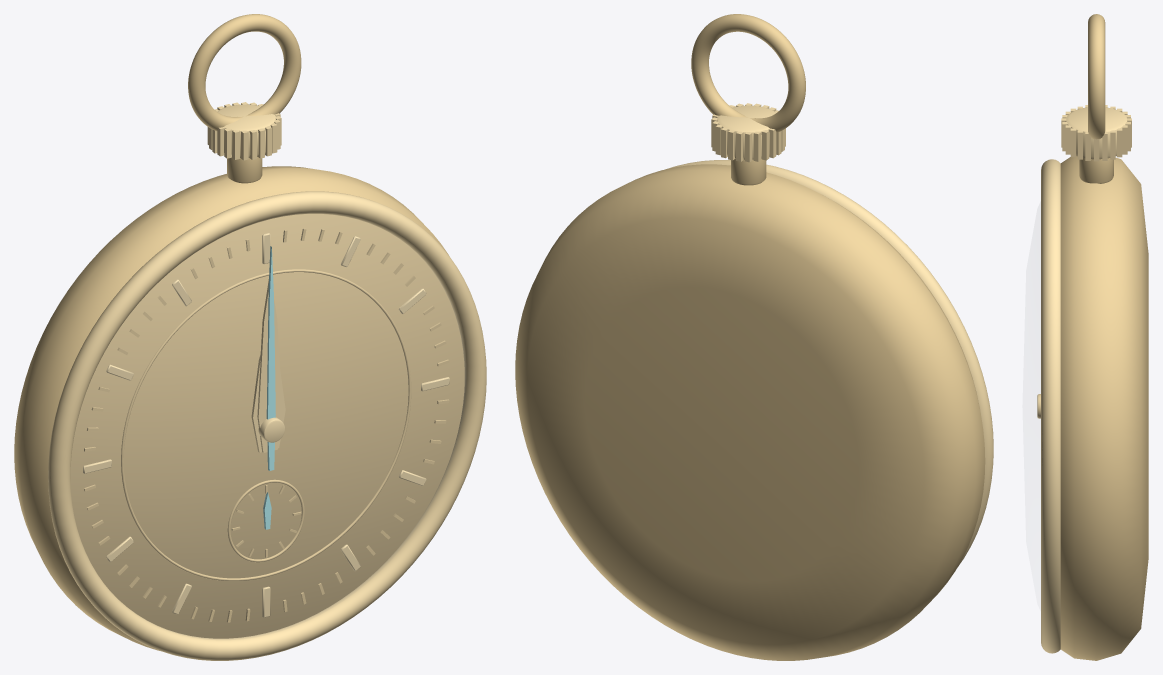
The model's file is PocketWatch.fbx.
3 renders of one model, left to right at view 1: azimuth 30°, elevation 25°; view 2: azimuth 150°, elevation 25°; view 3: azimuth 270°, elevation 25°, orthographic. The views are drawn at different scales.
Visible parts, largest first — view 1: Case, Bezel, Bow, Track, HandMinute, HandSecond, Crown, Stem, SubRing; view 2: Case, Bezel, Bow, Crown, Stem; view 3: Case, Bezel, Bow, Crown, Stem.
Part boxes in pixels (box(x1,y1,x2,y2)): Case: box(14, 166, 464, 650); Bezel: box(48, 191, 486, 660); Bow: box(188, 14, 301, 131); Track: box(121, 269, 411, 580); HandMinute: box(257, 279, 282, 452); HandSecond: box(266, 246, 275, 470); Crown: box(217, 104, 276, 157); Stem: box(227, 157, 262, 183); SubRing: box(227, 479, 304, 562); Case: box(515, 164, 985, 660); Bezel: box(666, 160, 993, 566); Bow: box(691, 14, 805, 132); Crown: box(717, 105, 775, 159); Stem: box(731, 158, 766, 185); Case: box(1060, 156, 1148, 660); Bezel: box(1041, 159, 1060, 653); Bow: box(1088, 14, 1105, 139); Crown: box(1065, 107, 1127, 159); Stem: box(1079, 158, 1113, 183).
Size of the model in its own units: 2.06 by 2.75 by 0.51.
